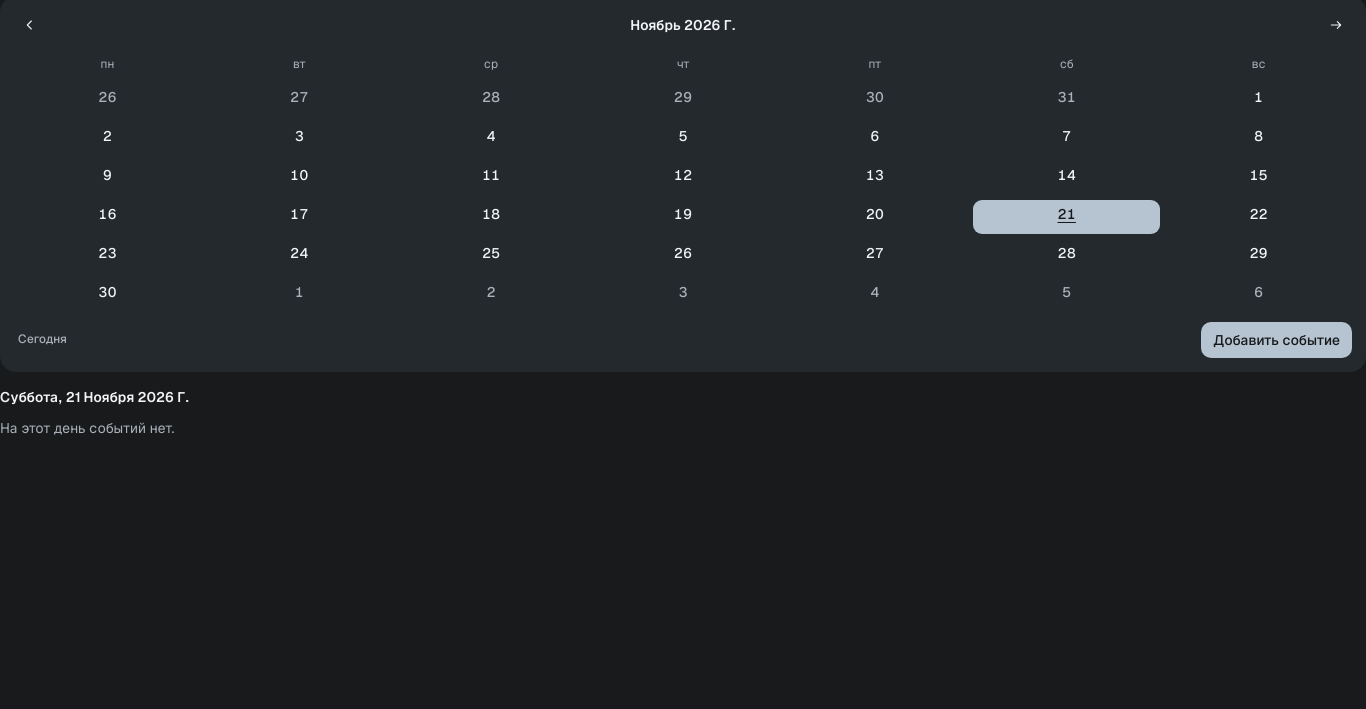
validates same-day time range before saving
This screenshot has width=1366, height=709.
Click the button "Добавить событие" at (1277, 340), box [1201,322,1352,358]
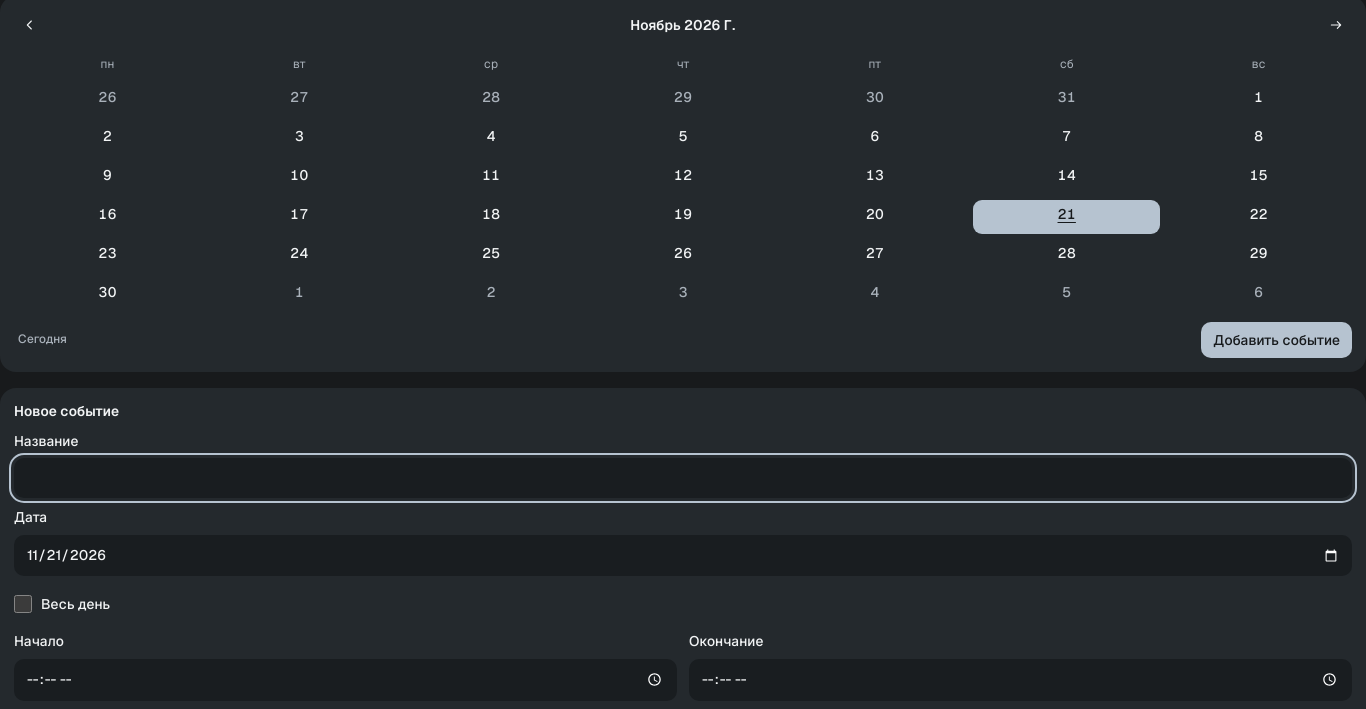
Type "Call" into the field labelled "Название" at (683, 478), box [14,458,1352,498]
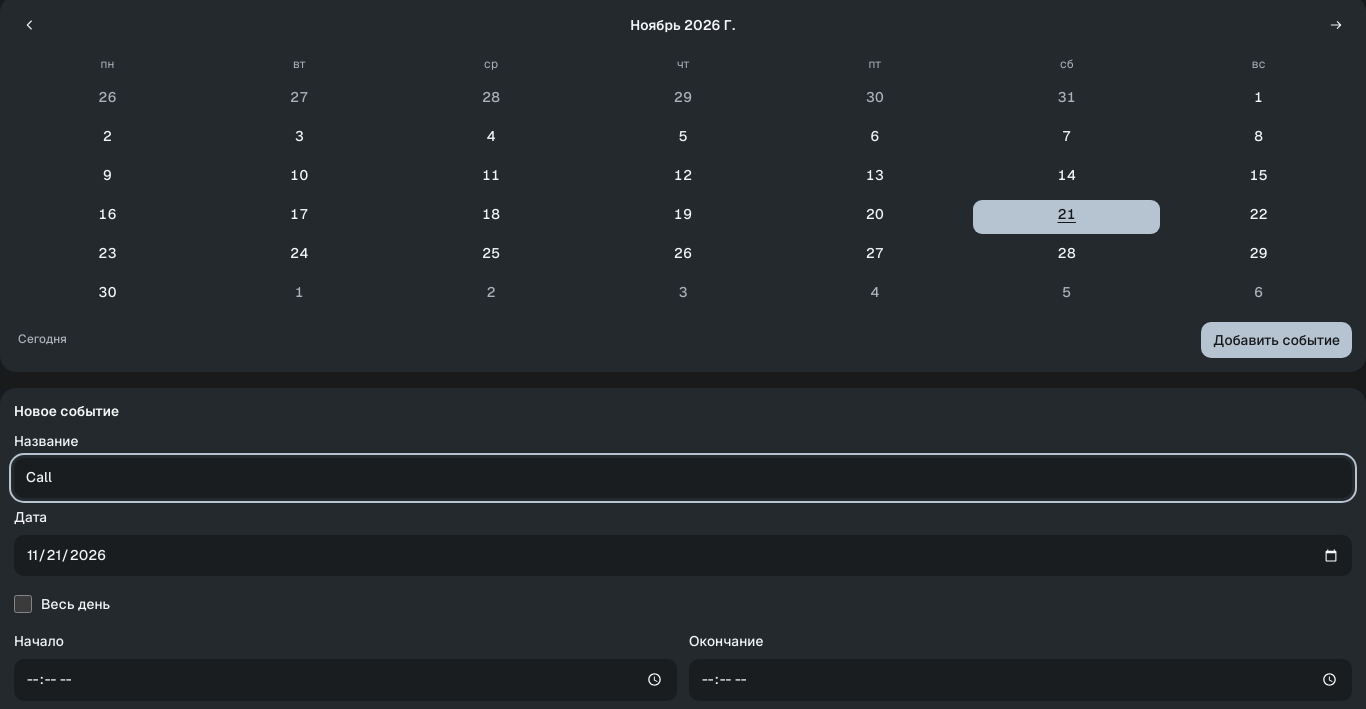
Type "16:00" into the time field labelled "Начало" at (346, 680), box [14,659,677,701]
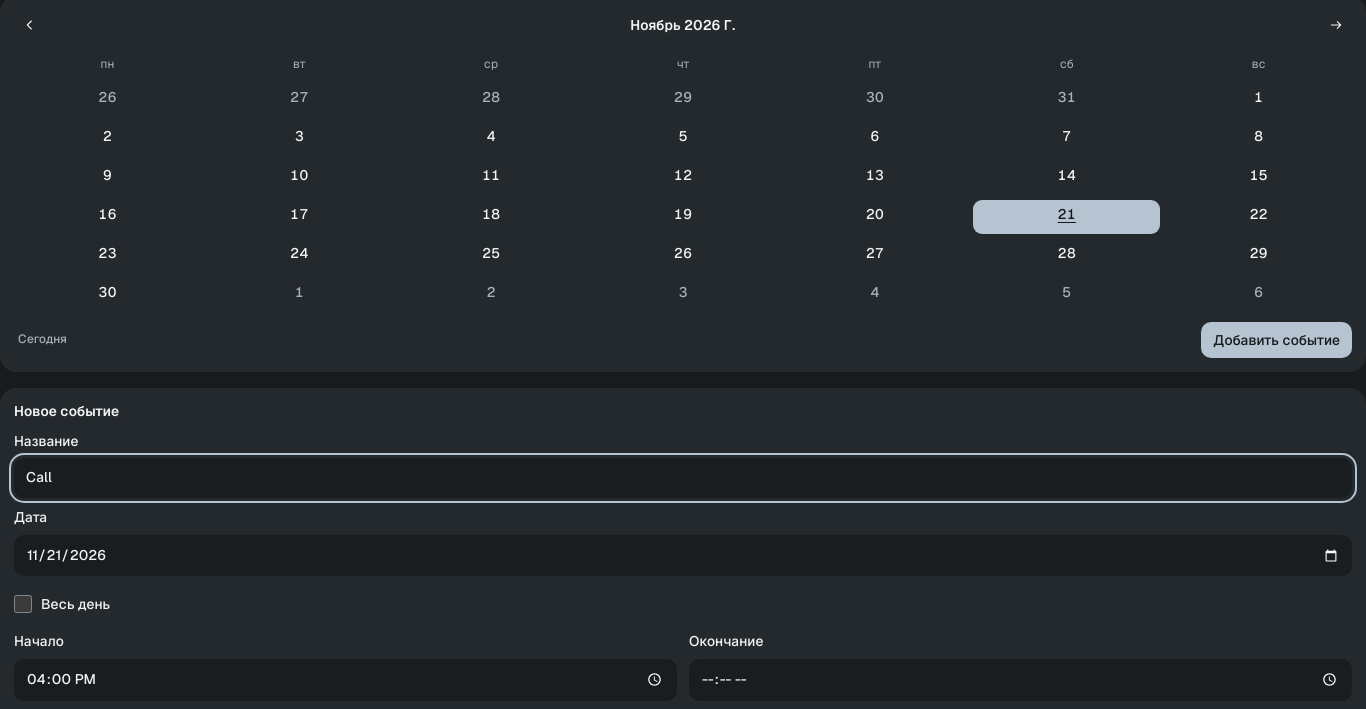
Type "15:00" into the time field labelled "Окончание" at (1020, 680), box [689,659,1352,701]
(page scrolled)
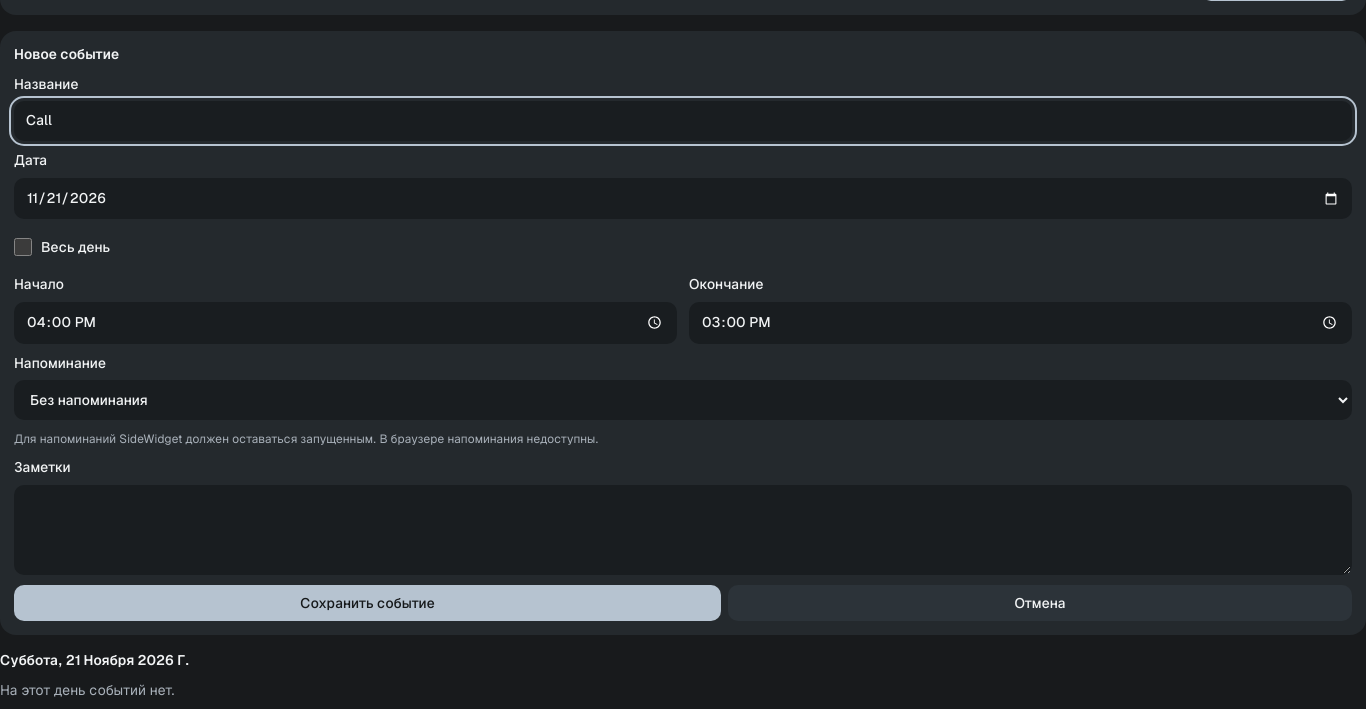
Click the button "Сохранить событие" at (368, 603), box [14,585,721,621]
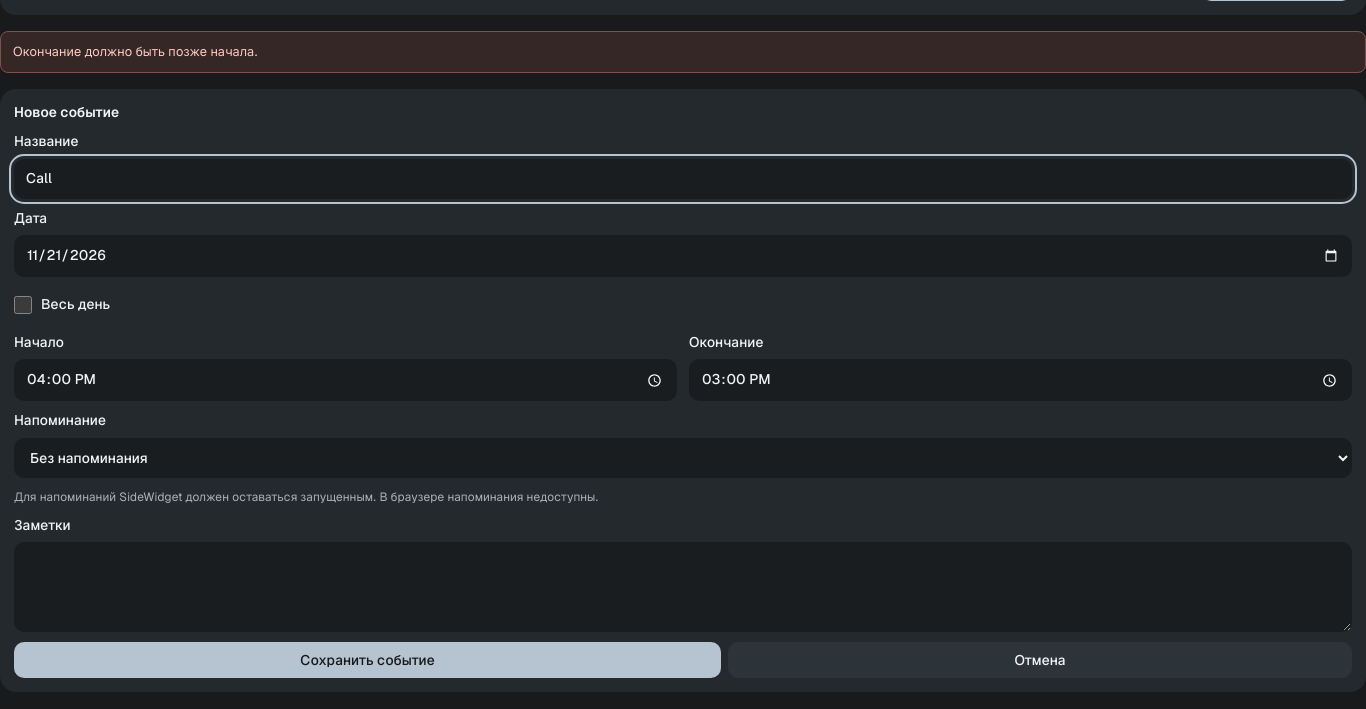
Expected: the message reads "Окончание должно быть позже начала.", [13,43,258,60]
